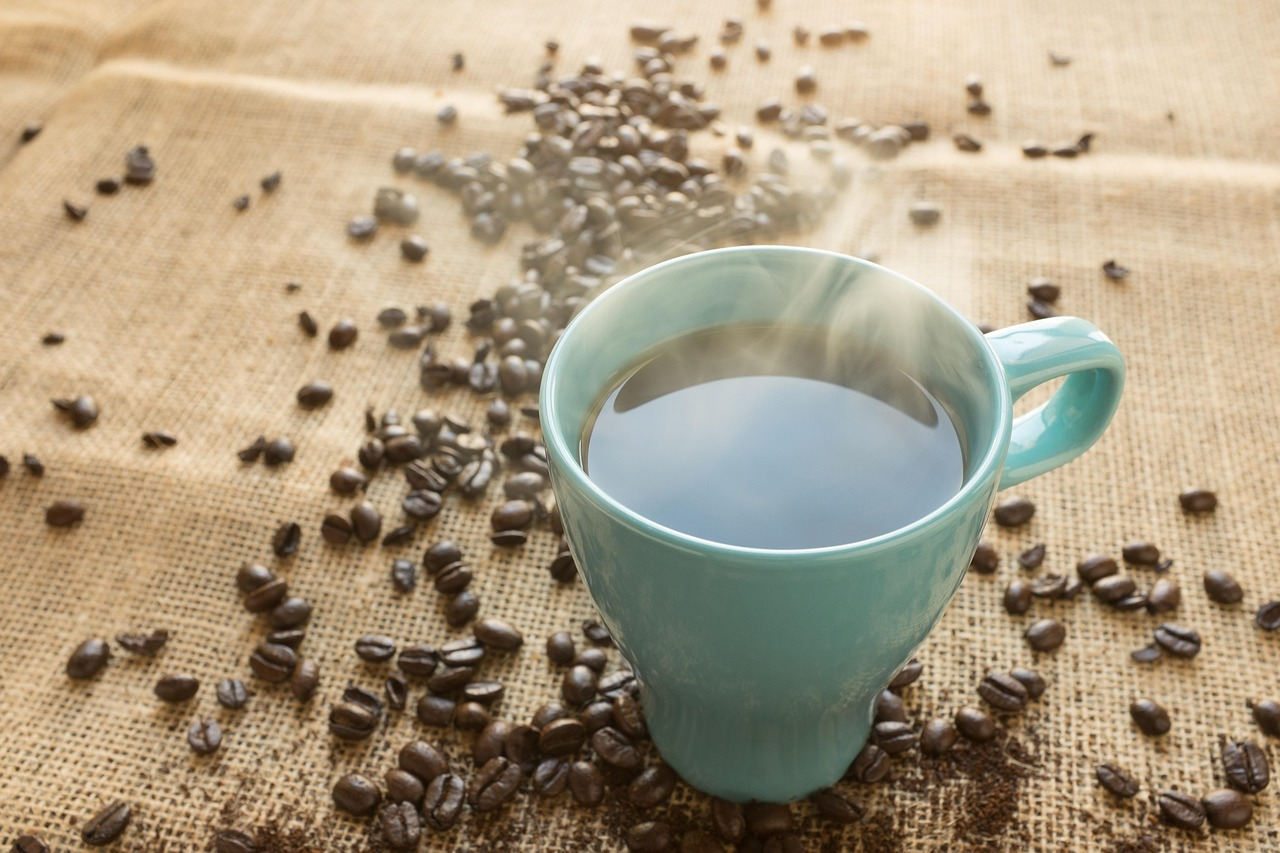mug: (532, 231, 1130, 820)
